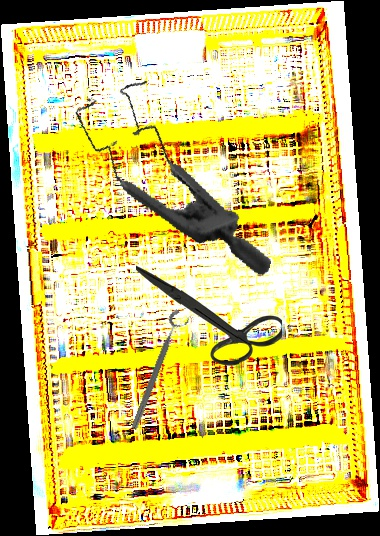Fixation Ring: (127, 306, 193, 435)
Iris Scissors: (136, 261, 283, 368)
Speculum: (47, 66, 307, 278)
